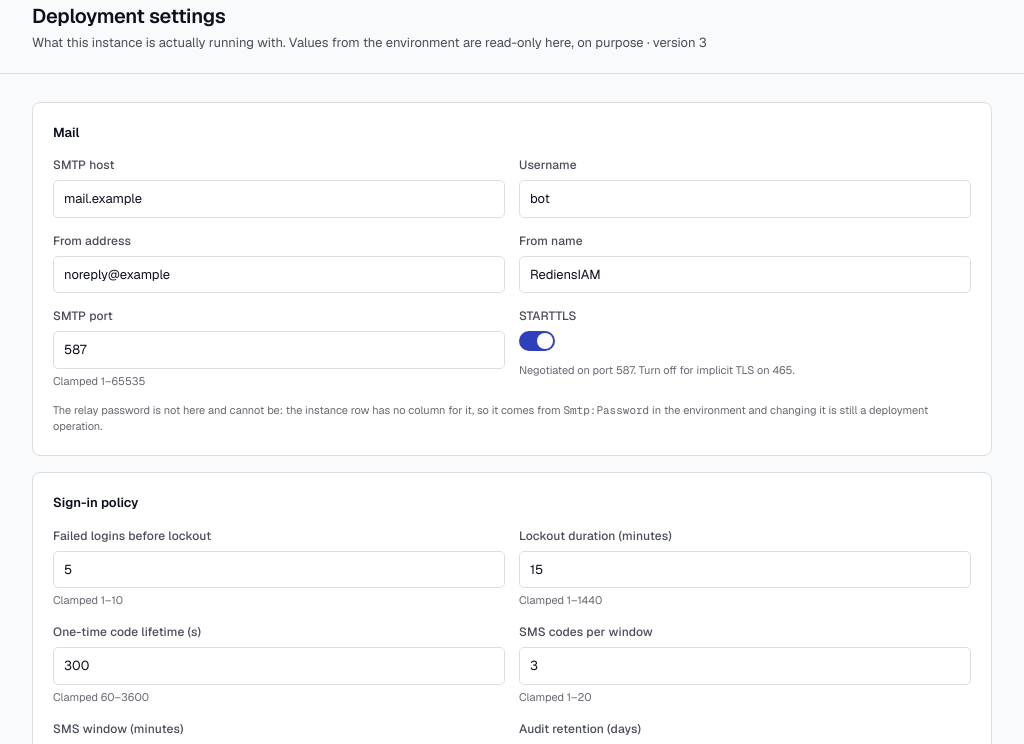
Test case: saving › says how many settings were stored
The width and height of the screenshot is (1024, 744).
Replace the text in the number field labelled "Lockout duration (minutes)" with "42": (745, 570) [519,551,971,588]
(page scrolled)
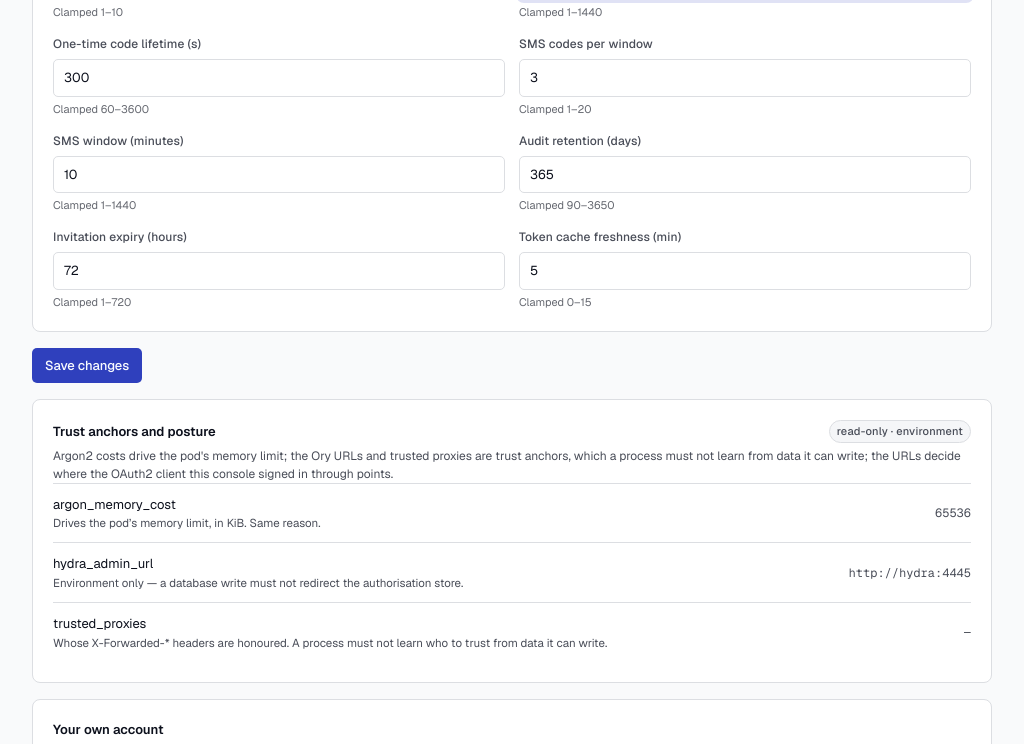
Click the button "Save changes": (87, 365) [32,348,142,383]
(page scrolled)
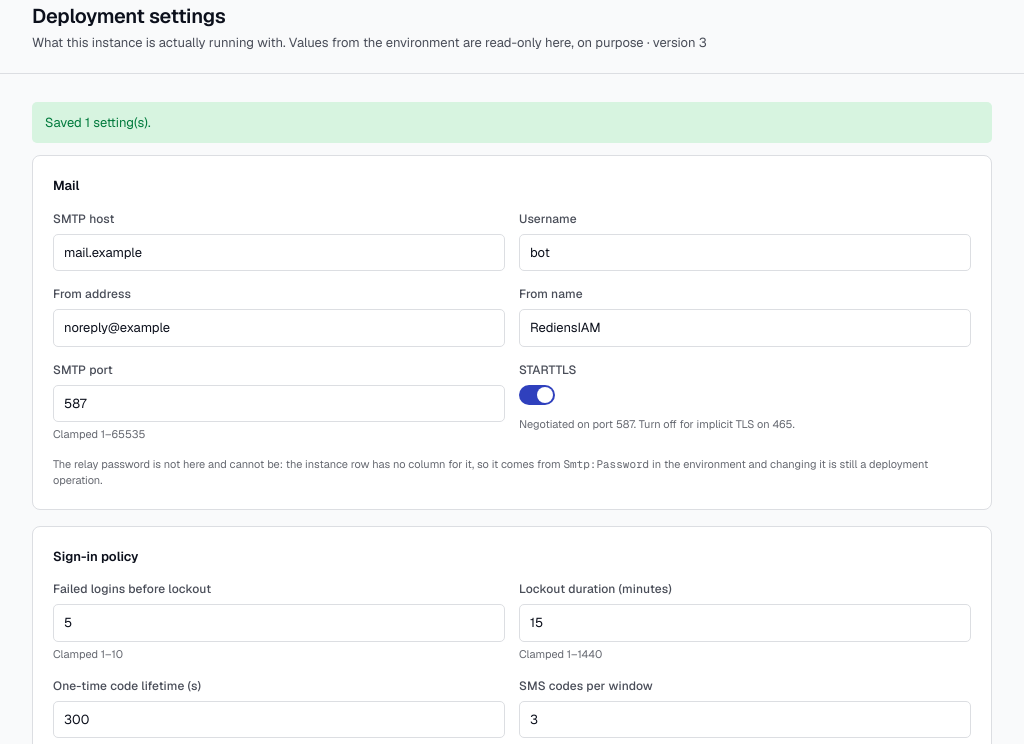
Expected: the text "Saved 1 setting(s)." is shown, [32,102,992,143]
